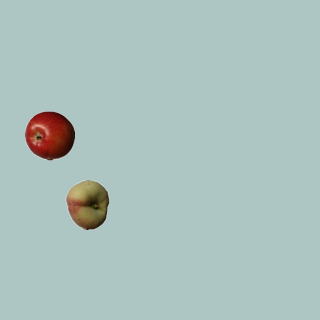Apple Braeburn: (24, 110, 74, 160)
Peach Flat: (62, 179, 112, 229)
